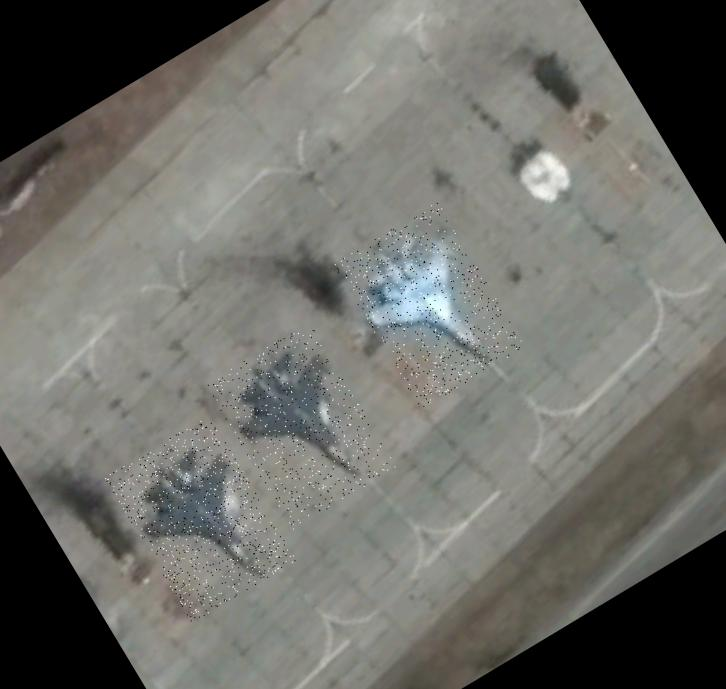A1: (104, 413, 296, 622), (204, 320, 396, 529), (333, 200, 524, 409)
